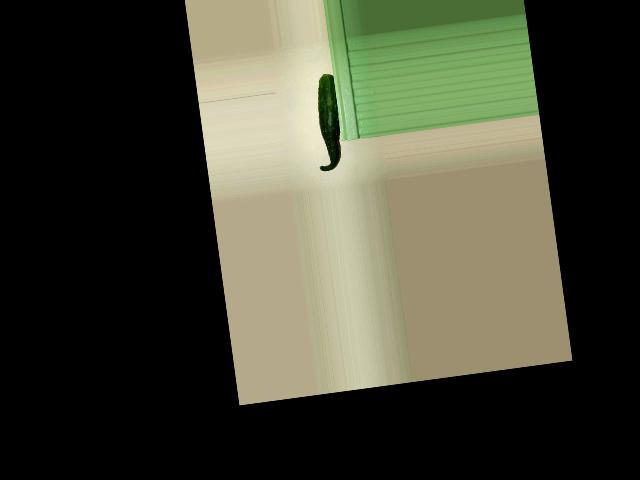cucumber: (308, 73, 346, 172)
